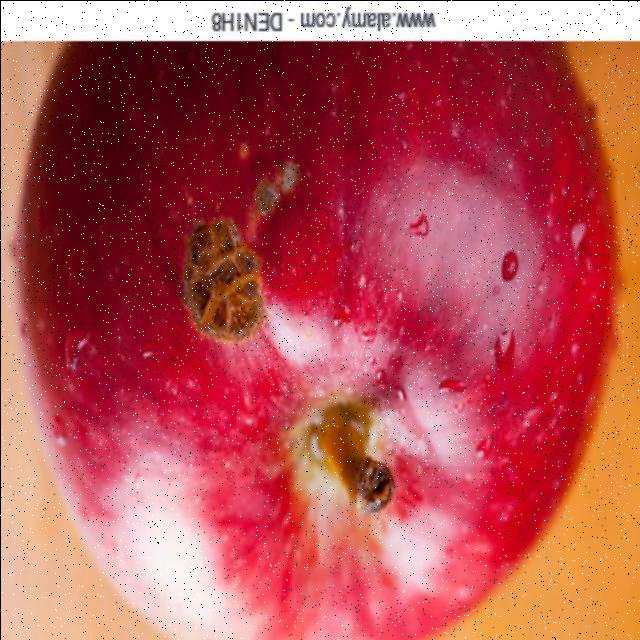SCAB: (13, 62, 396, 442)
